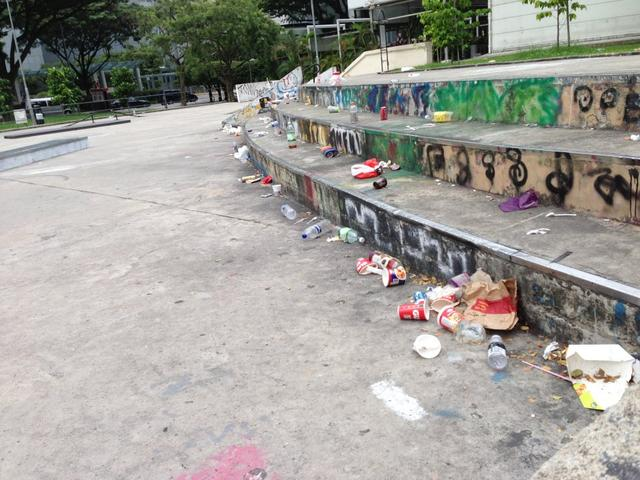garbage: (424, 288, 508, 344), (555, 345, 634, 396), (361, 250, 409, 284)
